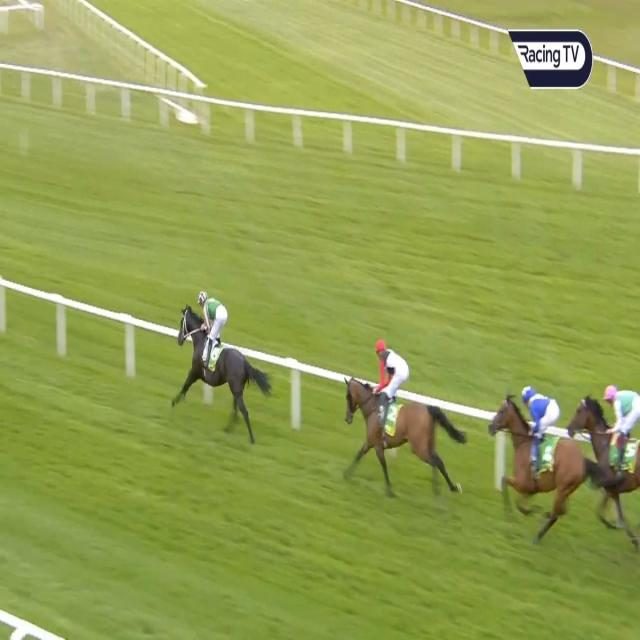horses-racing: (344, 334, 444, 478), (496, 383, 585, 528), (173, 286, 253, 422), (571, 383, 640, 510)
